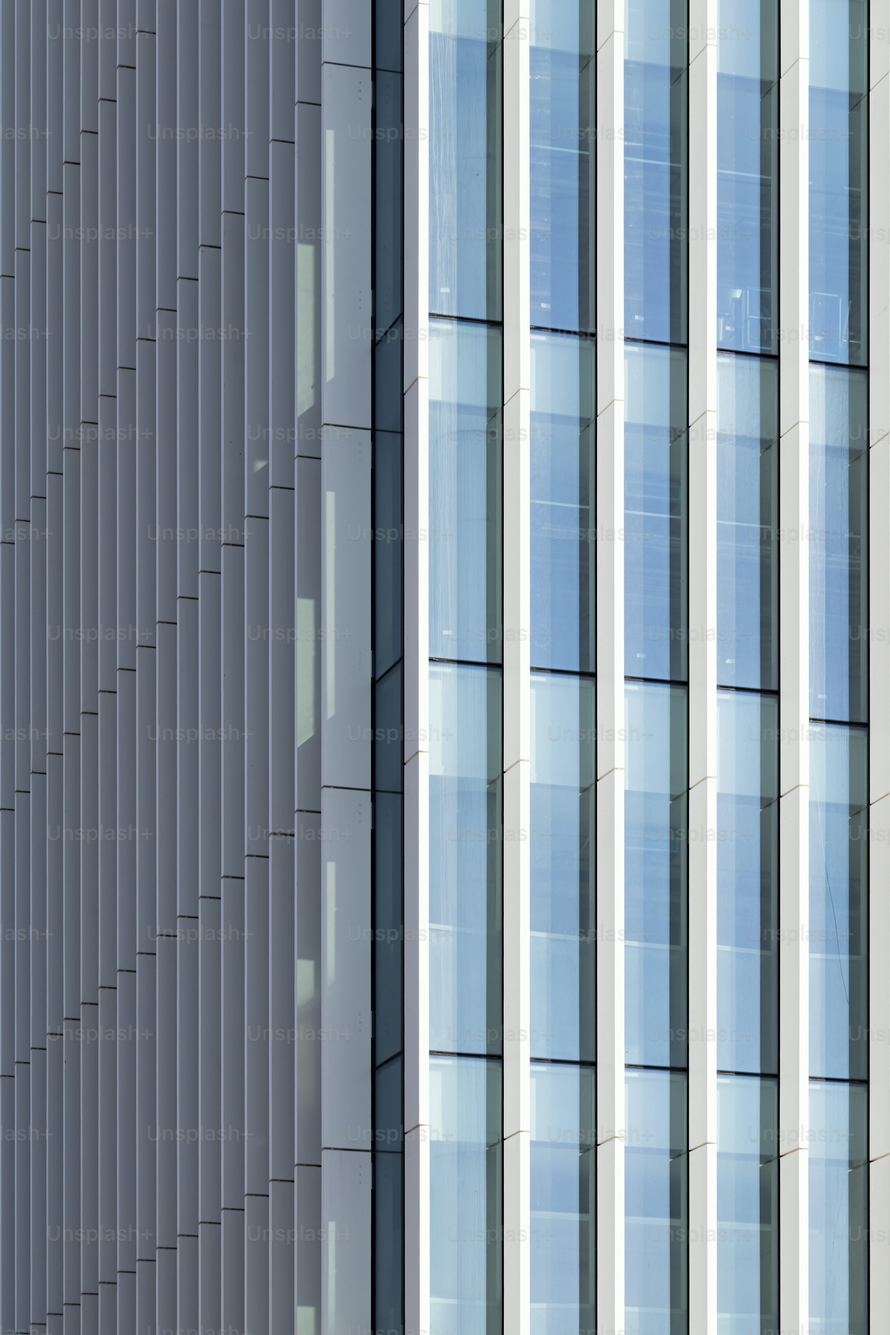glass panel: (429, 664, 501, 1053), (429, 321, 502, 662), (531, 674, 595, 1060), (625, 683, 687, 1067), (429, 0, 502, 320), (717, 692, 778, 1073), (530, 333, 595, 671), (624, 0, 688, 343), (808, 0, 868, 365), (530, 0, 595, 331), (717, 0, 778, 352), (809, 365, 868, 721), (625, 344, 687, 681), (809, 726, 868, 1079), (717, 355, 778, 689), (429, 1056, 502, 1335), (530, 1065, 596, 1335), (625, 1070, 688, 1335), (717, 1076, 778, 1335), (810, 1082, 868, 1335)
